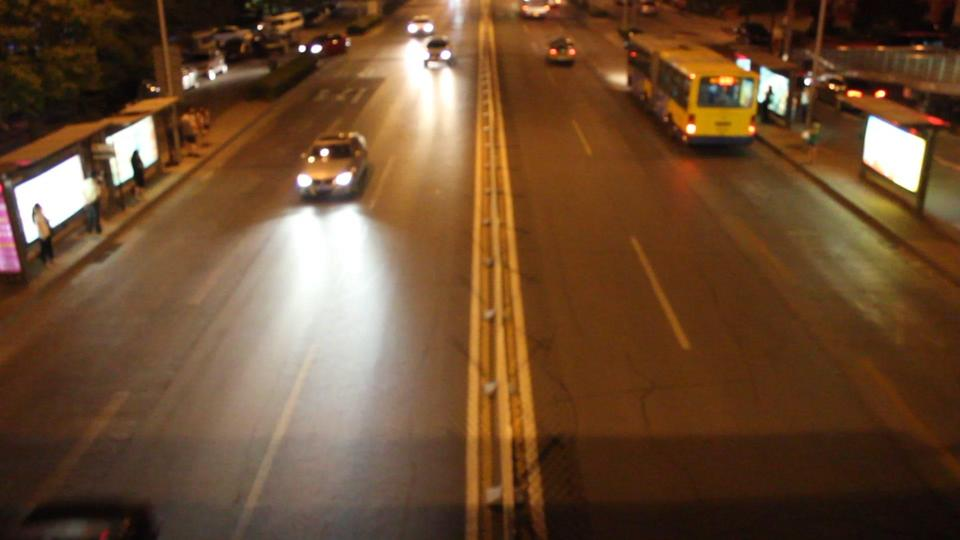bus: (625, 29, 759, 146)
car: (295, 129, 369, 201), (299, 33, 352, 58), (423, 36, 456, 68), (546, 37, 576, 63), (406, 14, 433, 38), (516, 1, 552, 18)
truck: (261, 11, 303, 41)
